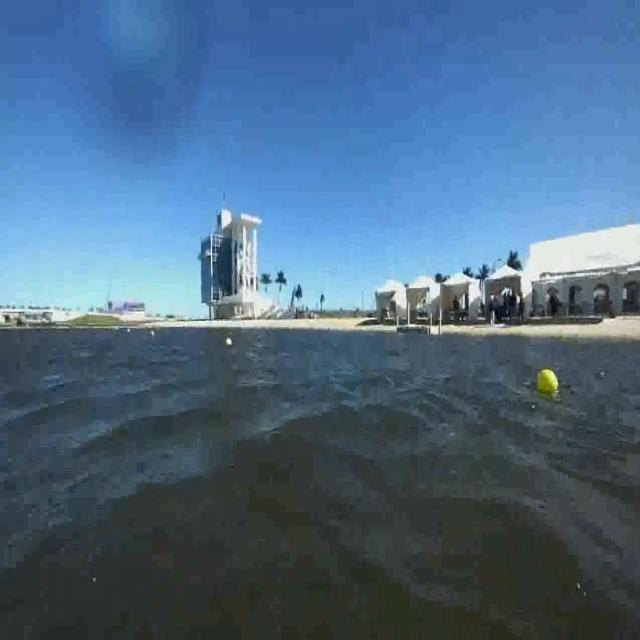yellow-buoy: (538, 369, 560, 395)
